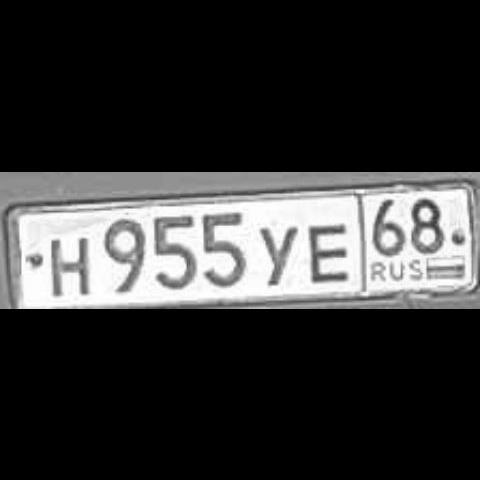license-plateSW: (7, 181, 474, 308)
